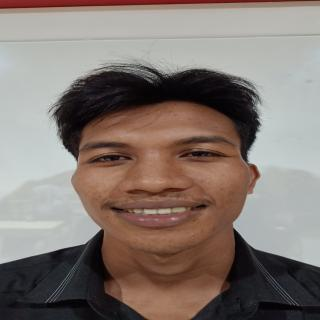Senang: (70, 93, 251, 263)
